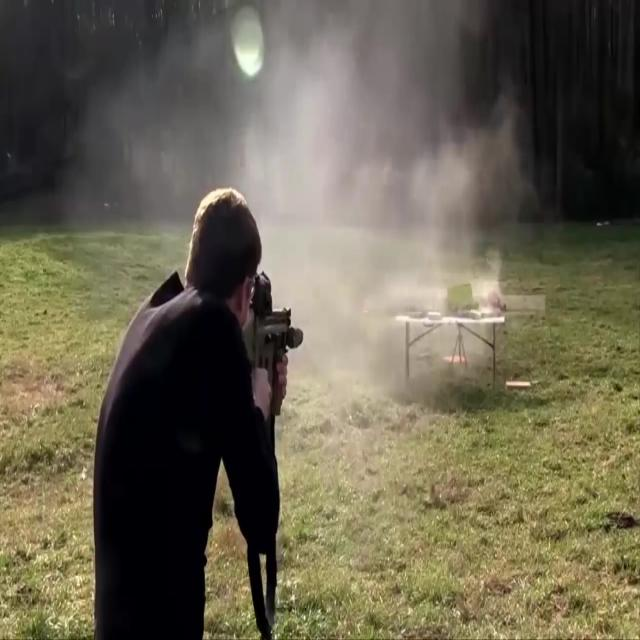Weapon: (219, 256, 309, 444)
